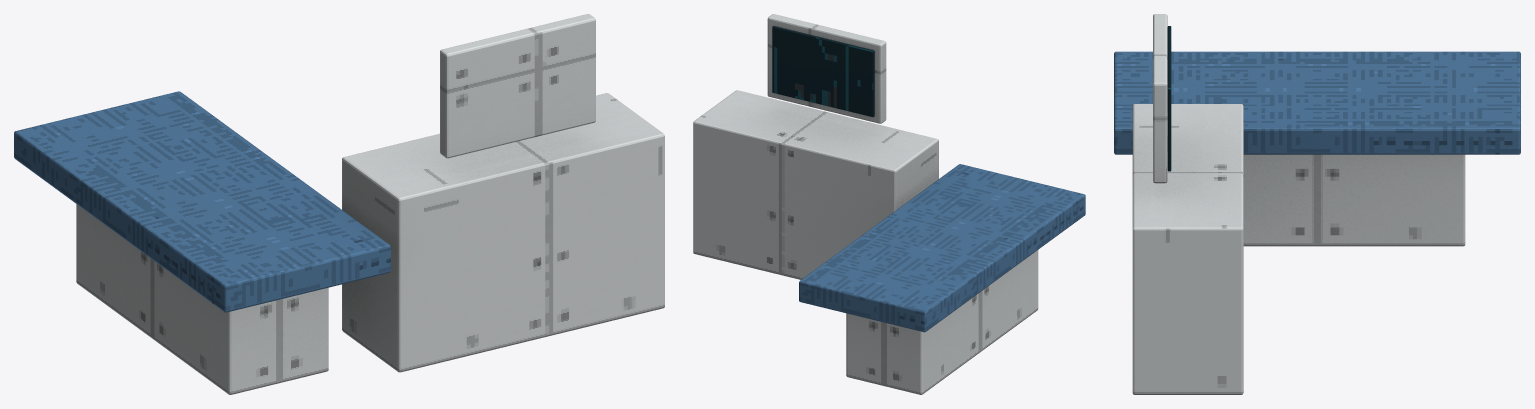
The model's file is base_med_exam.glb.
3 renders of one model, left to right at view 1: azimuth 30°, elevation 25°; view 2: azimuth 150°, elevation 25°; view 3: azimuth 270°, elevation 25°, orthographic. The views are drawn at different scales.
Parts seen in each view (by area): view 1: base_med_exam.001; view 2: base_med_exam.001; view 3: base_med_exam.001.
Part boxes in pixels (x1,y1,x2,y2): base_med_exam.001: (14, 14, 664, 394); base_med_exam.001: (693, 14, 1085, 394); base_med_exam.001: (1114, 14, 1520, 394).
Bounding box in the file's own units: 2.7 × 1.7 × 2.2.
3 materials, 3 textured.
